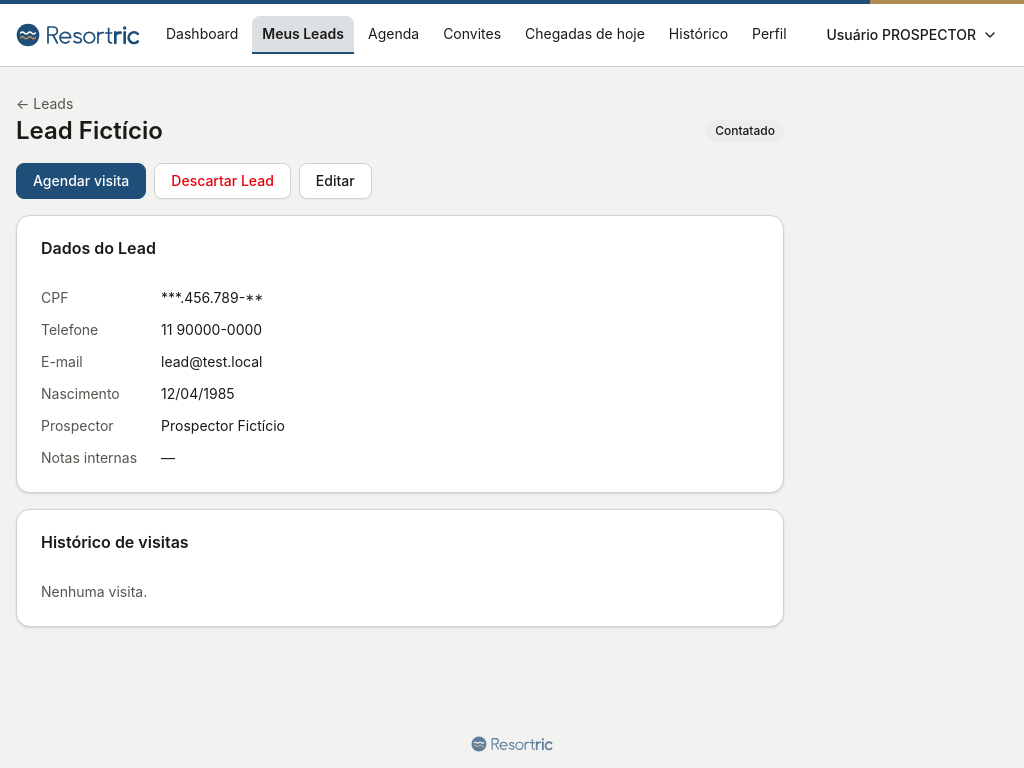
Test: W2 — erros do backend em português › 0: mostra a mensagem do código
Click the button "Agendar visita" at (81, 181), box [16,163,146,199]
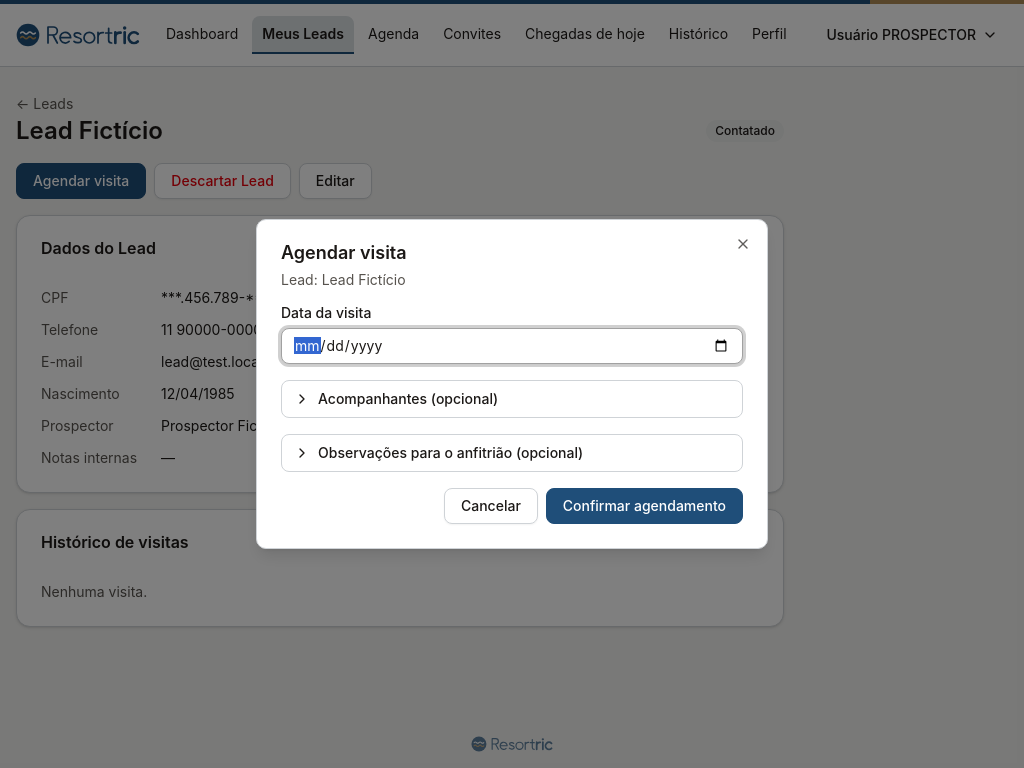
Type "2026-09-30" into the date field labelled "Data da visita" at (512, 346), box [281,328,743,364]
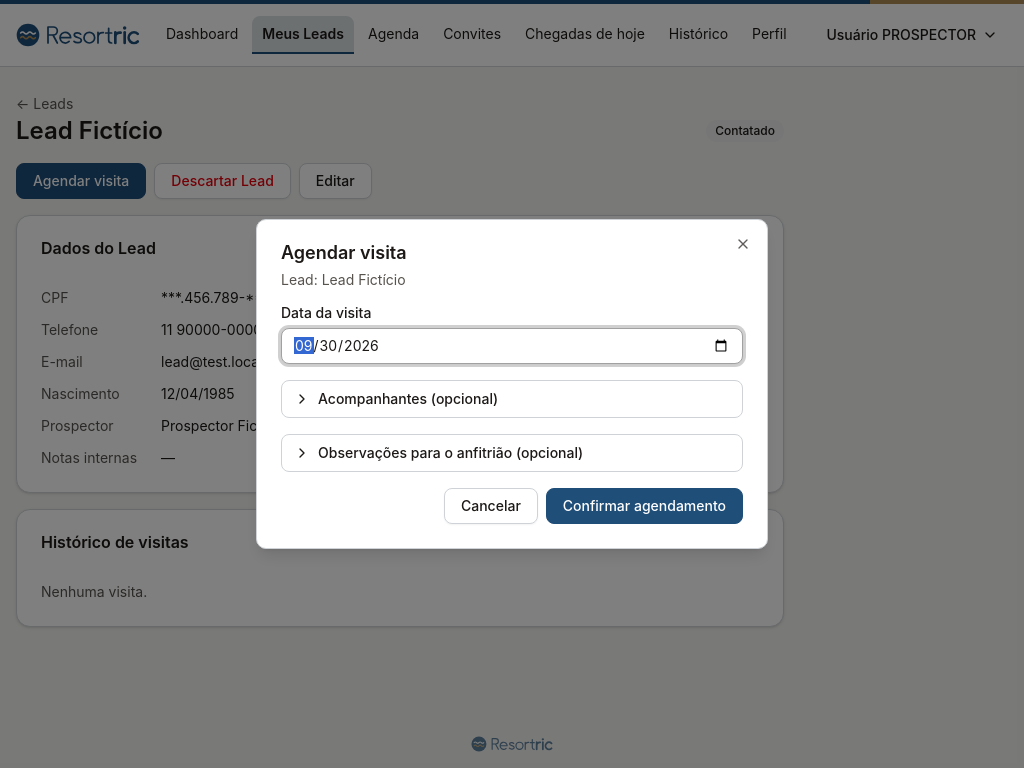
Click the button "Confirmar agendamento" at (644, 506), box [546,488,743,524]
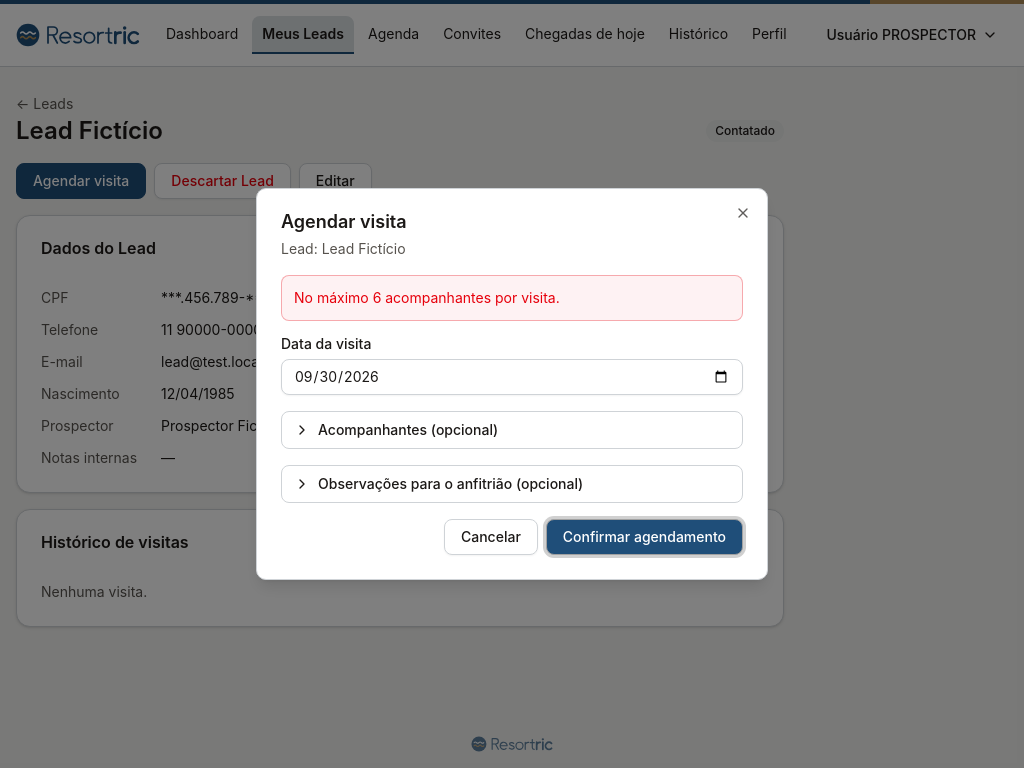
Check: the message reads "No máximo 6 acompanhantes por visita.", box [294,289,560,306]
